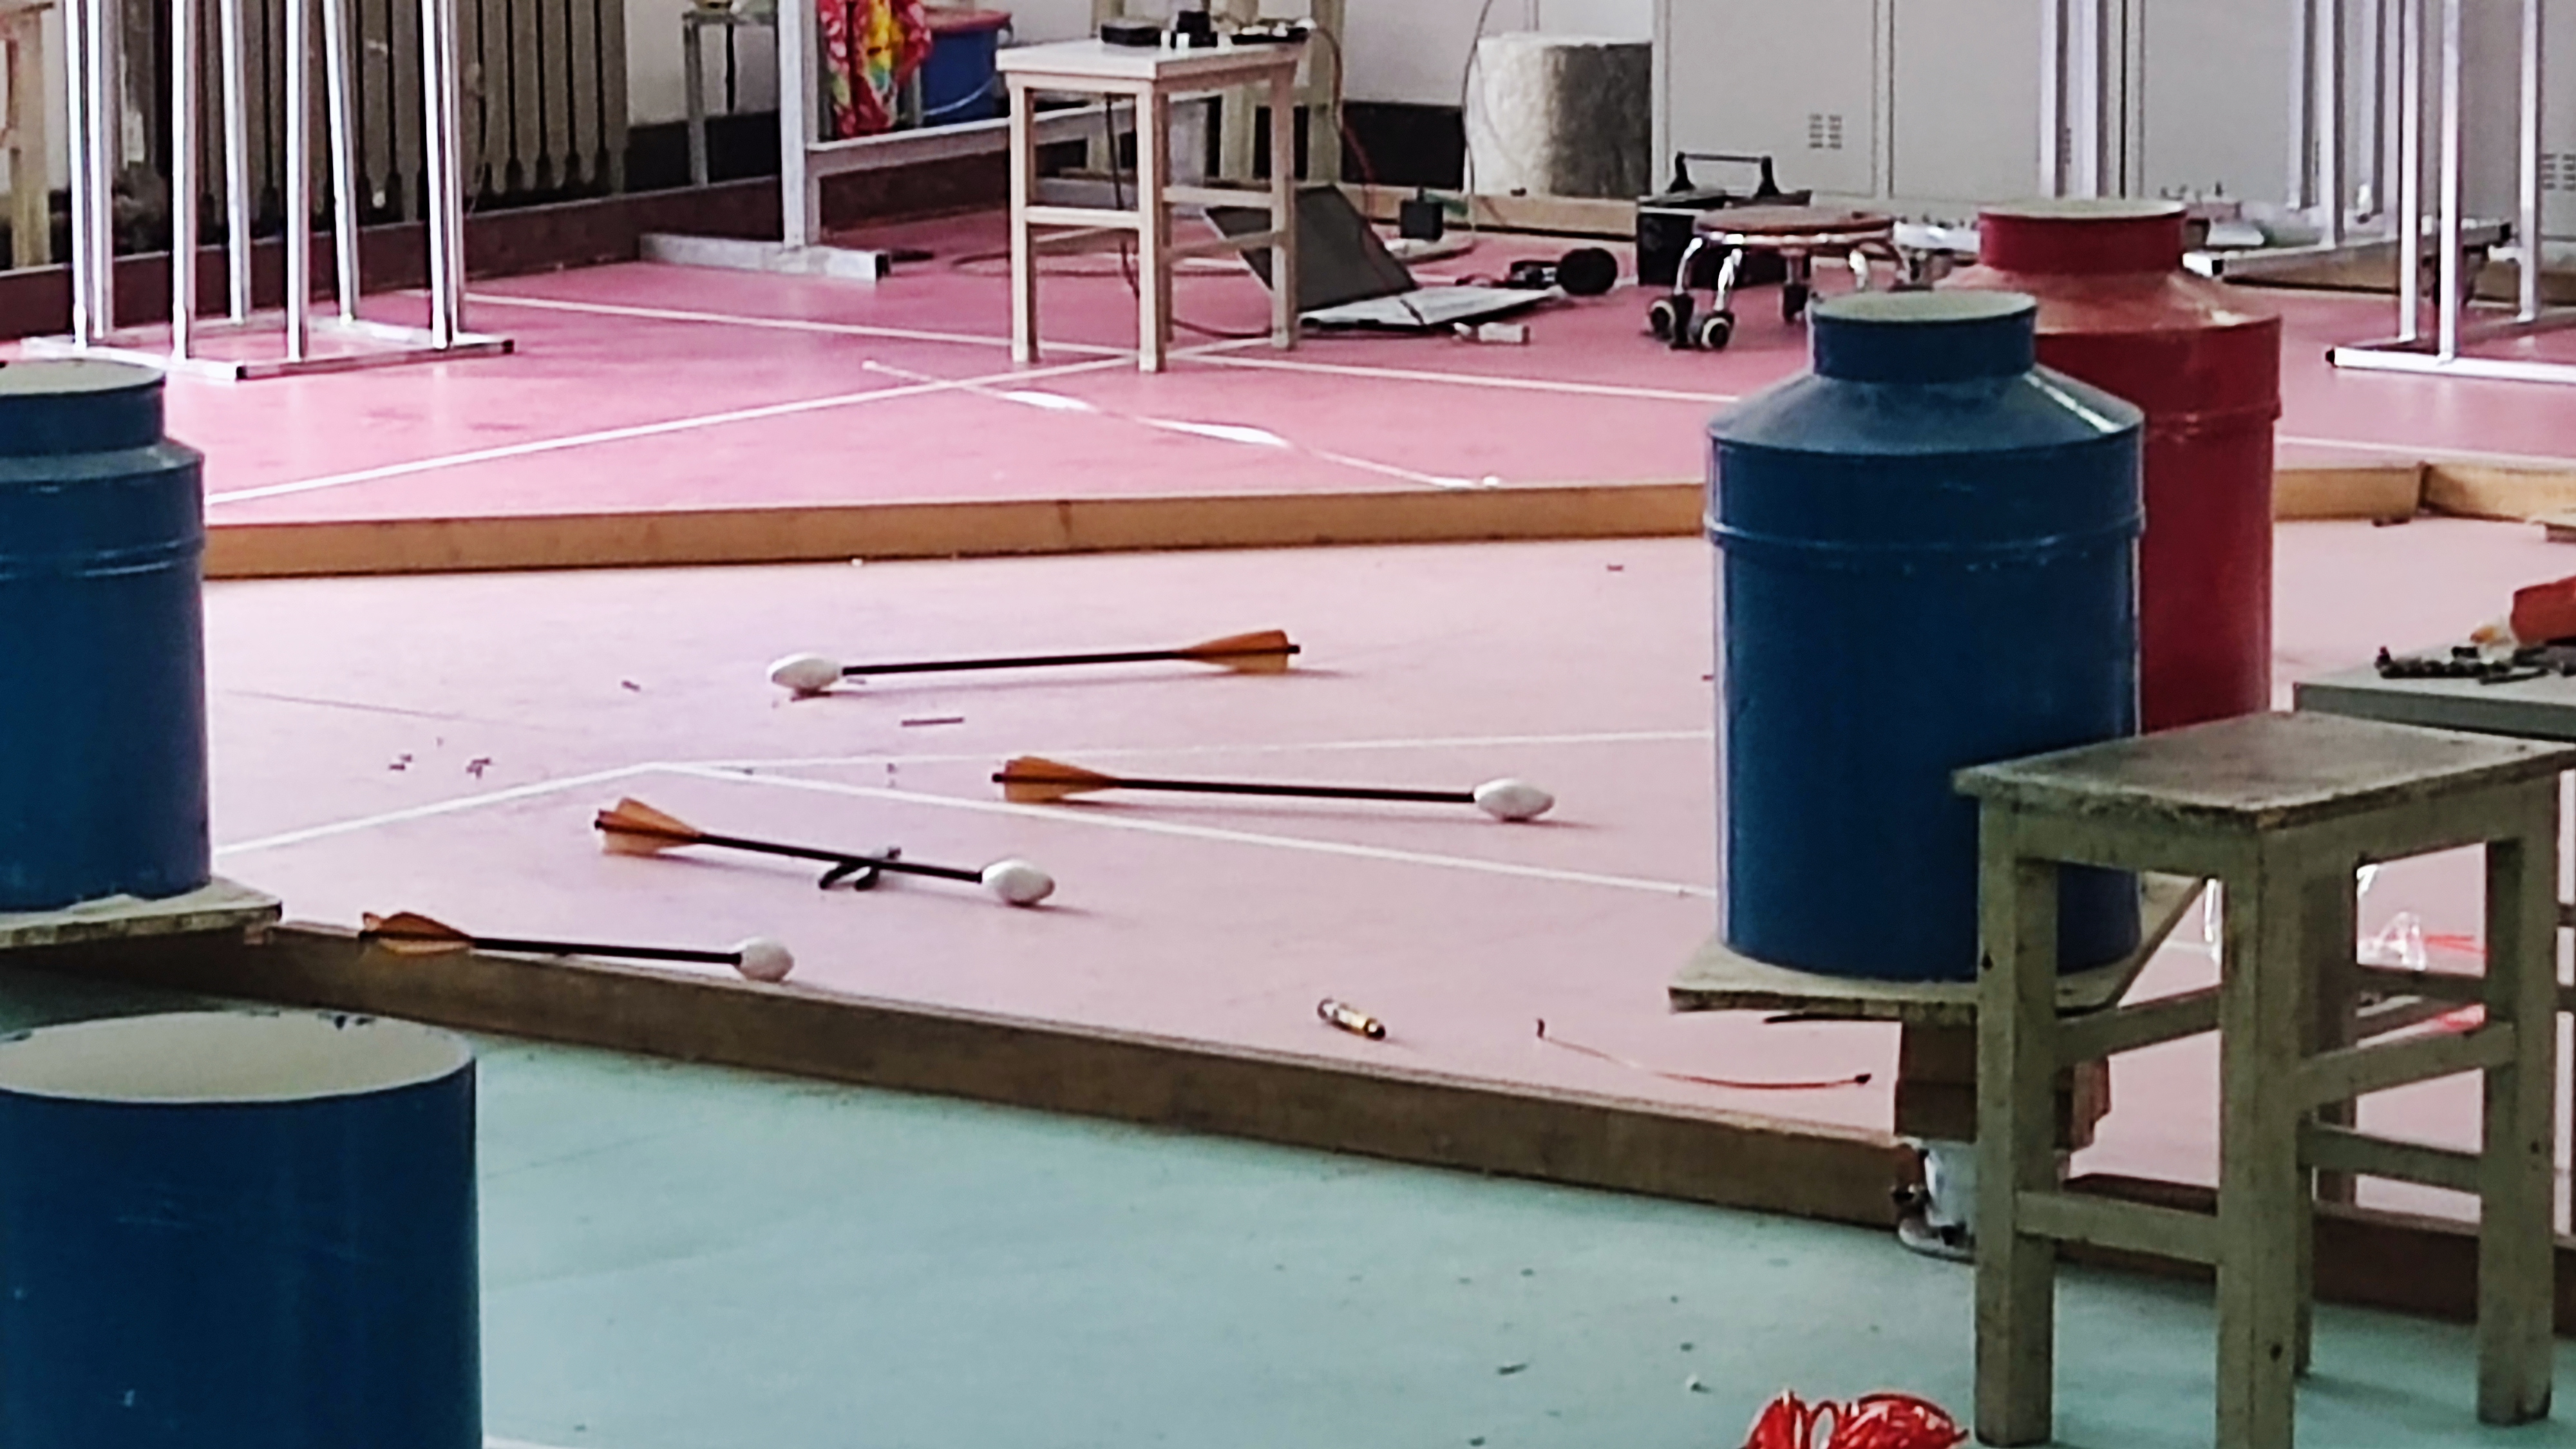arrow: (594, 791, 1056, 909), (998, 747, 1555, 823), (766, 630, 1300, 702), (357, 904, 801, 985)
arrowFront: (1468, 775, 1553, 824), (980, 856, 1060, 908), (724, 938, 793, 985), (768, 655, 847, 695)
blueBucket: (1693, 295, 2162, 993)
